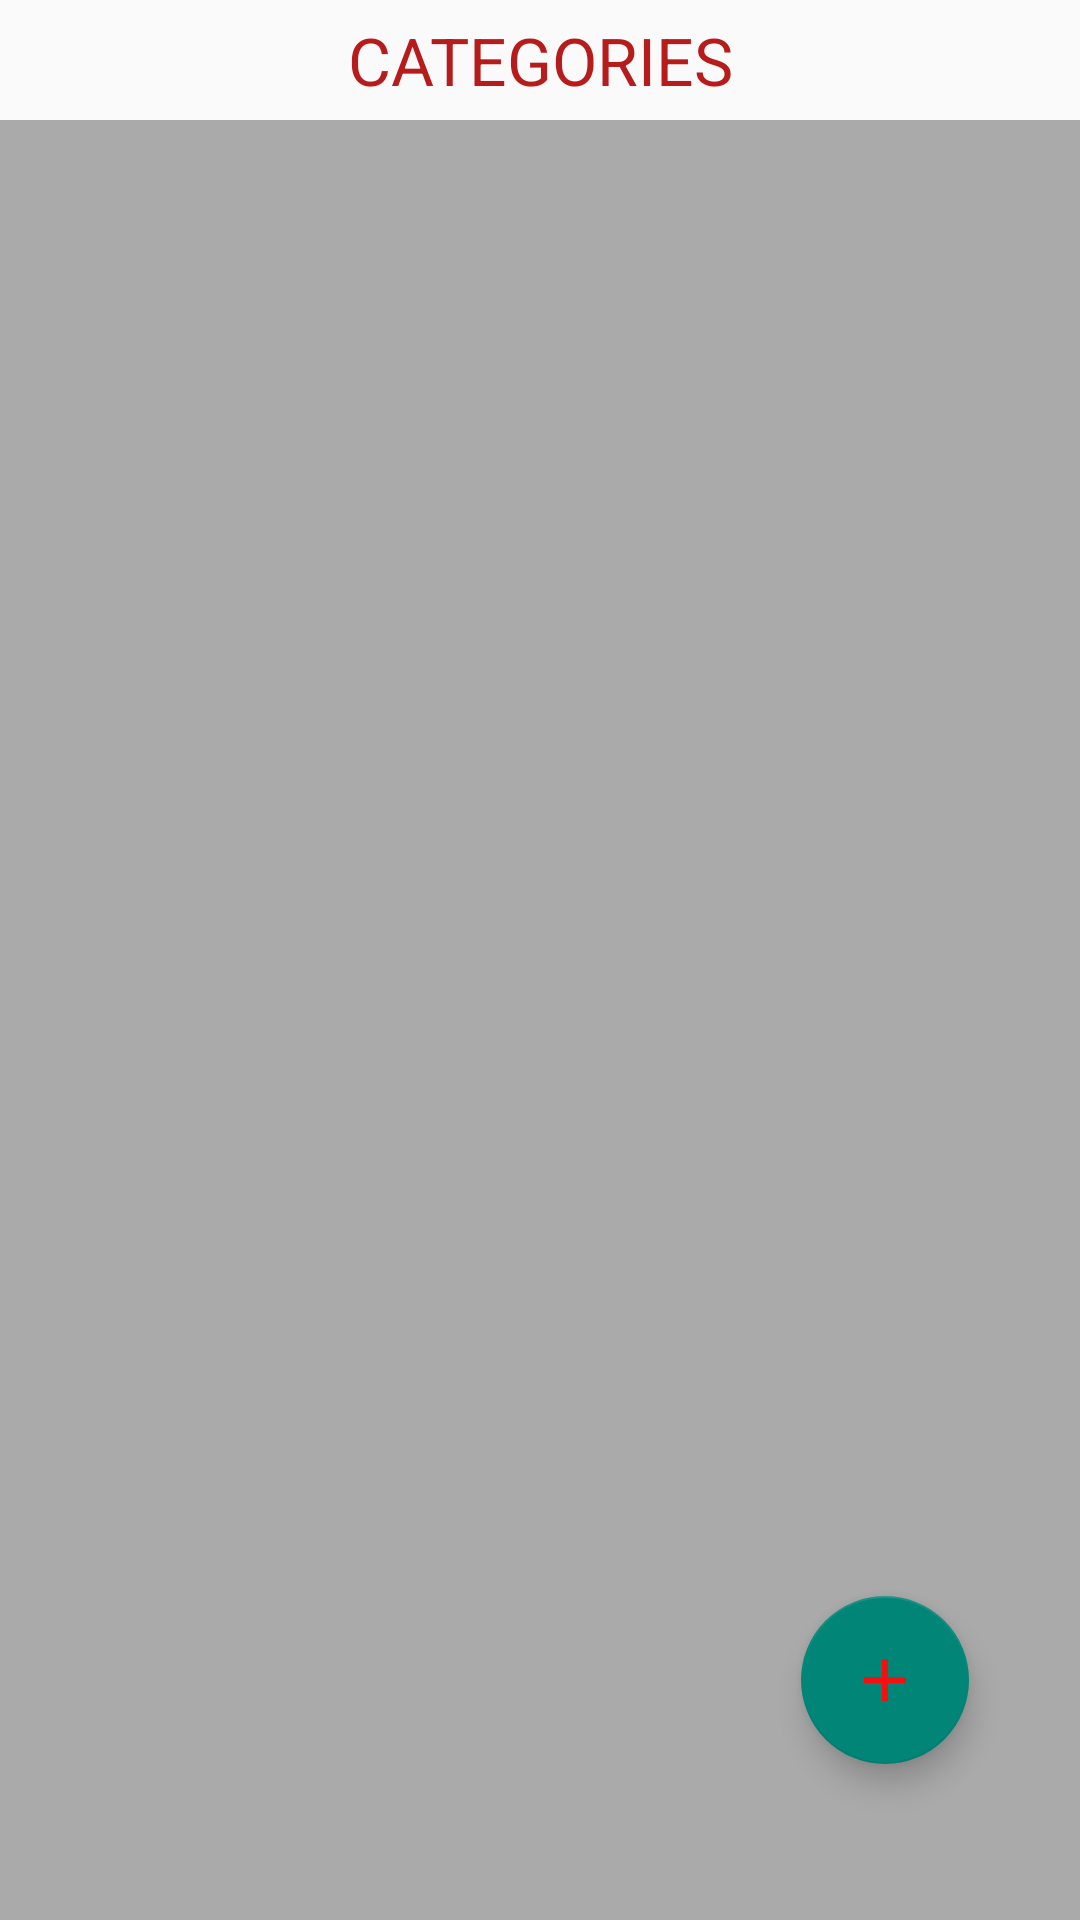

Screen size 1080x1920. Icon name, then its center in pixels as (x=x, y=y):
add: (x=885, y=1680)
